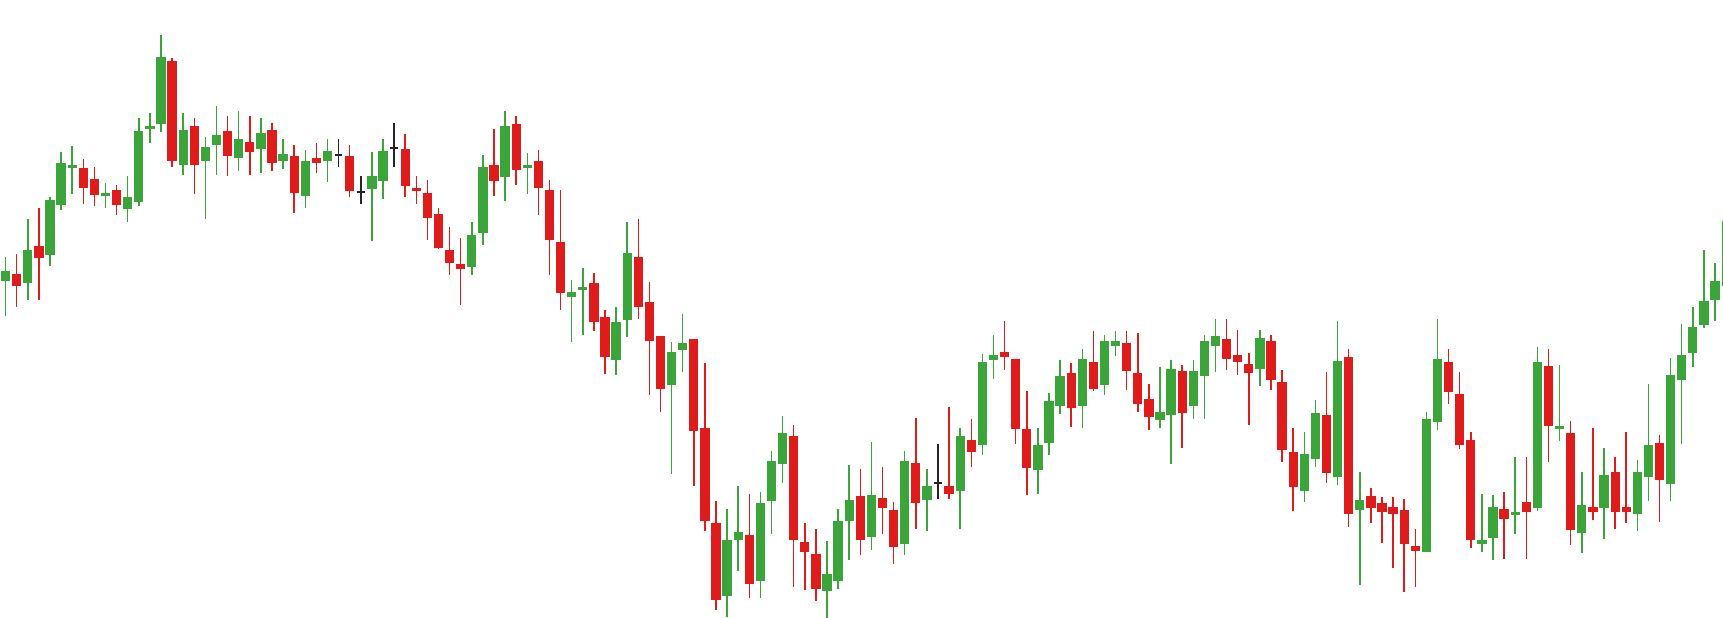buy: (744, 472, 835, 618)
sell: (1109, 320, 1234, 396), (578, 217, 644, 333)
